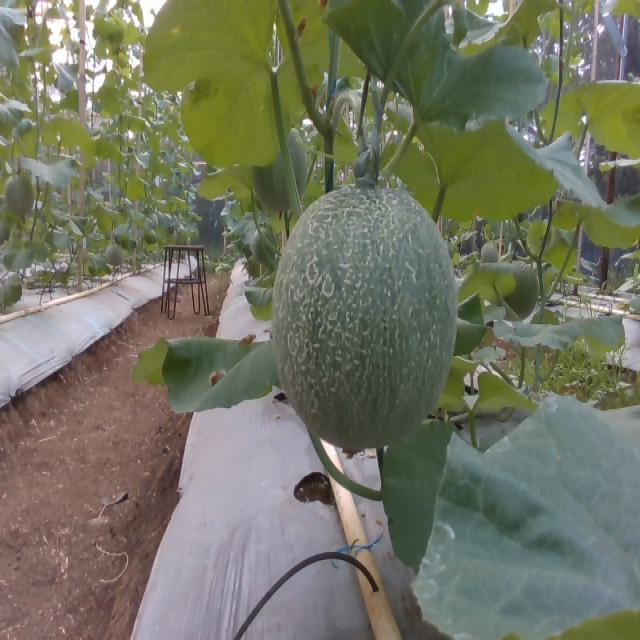melon: (275, 187, 458, 450)
